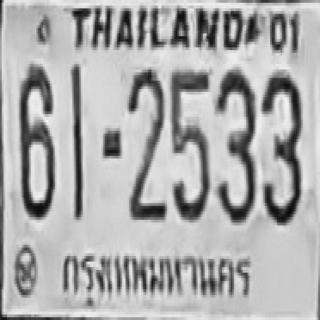N01: (70, 61, 82, 220), (70, 63, 82, 213)
N02: (127, 67, 164, 220)
N03: (260, 71, 301, 221), (215, 68, 255, 221)
N05: (169, 68, 208, 218)
N06: (17, 64, 55, 217)
P04: (59, 238, 255, 312)
